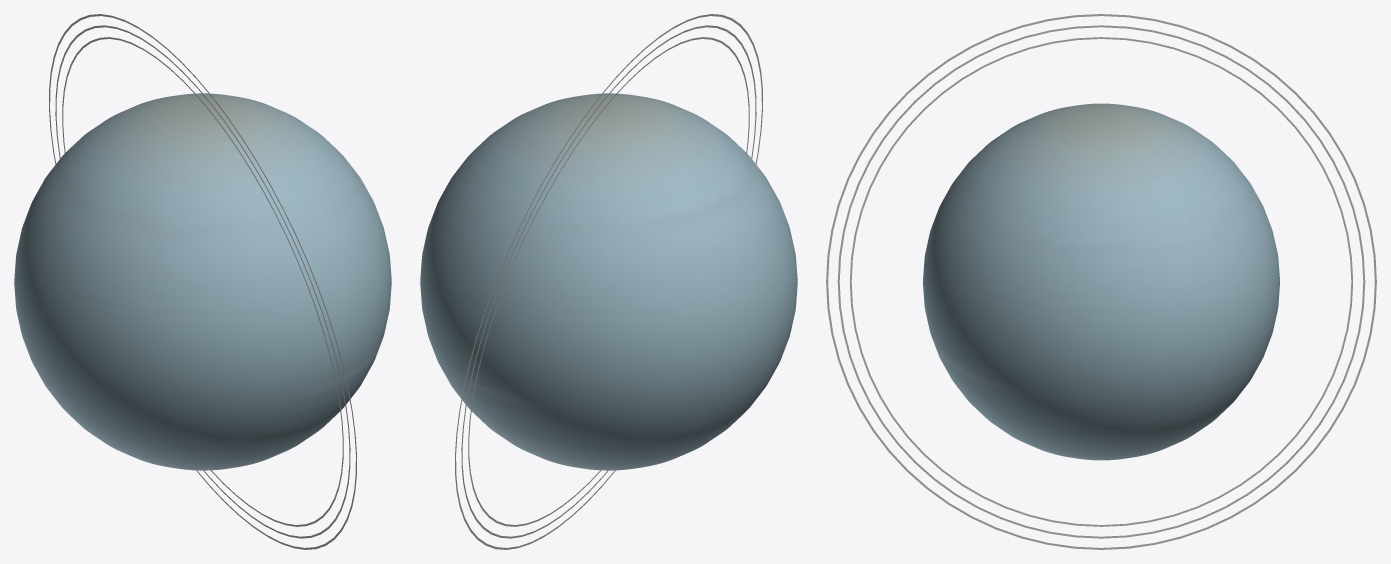
Rendered from uranus.gltf.
3 renders of one model, left to right at view 1: azimuth 30°, elevation 25°; view 2: azimuth 150°, elevation 25°; view 3: azimuth 270°, elevation 25°, orthographic. The views are drawn at different scales.
Parts seen in each view (by area): view 1: Sphere, Circle, Circle.001, Circle.002; view 2: Sphere, Circle, Circle.001, Circle.002; view 3: Sphere, Circle, Circle.001, Circle.002.
Boxes of the visible parts, bbox=[...] form: Sphere: bbox=[14, 93, 391, 470]; Circle: bbox=[49, 14, 356, 549]; Circle.001: bbox=[55, 25, 350, 538]; Circle.002: bbox=[62, 37, 343, 526]; Sphere: bbox=[420, 93, 797, 470]; Circle: bbox=[455, 14, 762, 549]; Circle.001: bbox=[461, 25, 756, 538]; Circle.002: bbox=[468, 37, 749, 526]; Sphere: bbox=[923, 103, 1279, 460]; Circle: bbox=[826, 14, 1376, 549]; Circle.001: bbox=[837, 25, 1365, 538]; Circle.002: bbox=[849, 37, 1353, 526].
Size of the model in its own units: 200 by 302 by 308.
2 materials, 1 textured.
